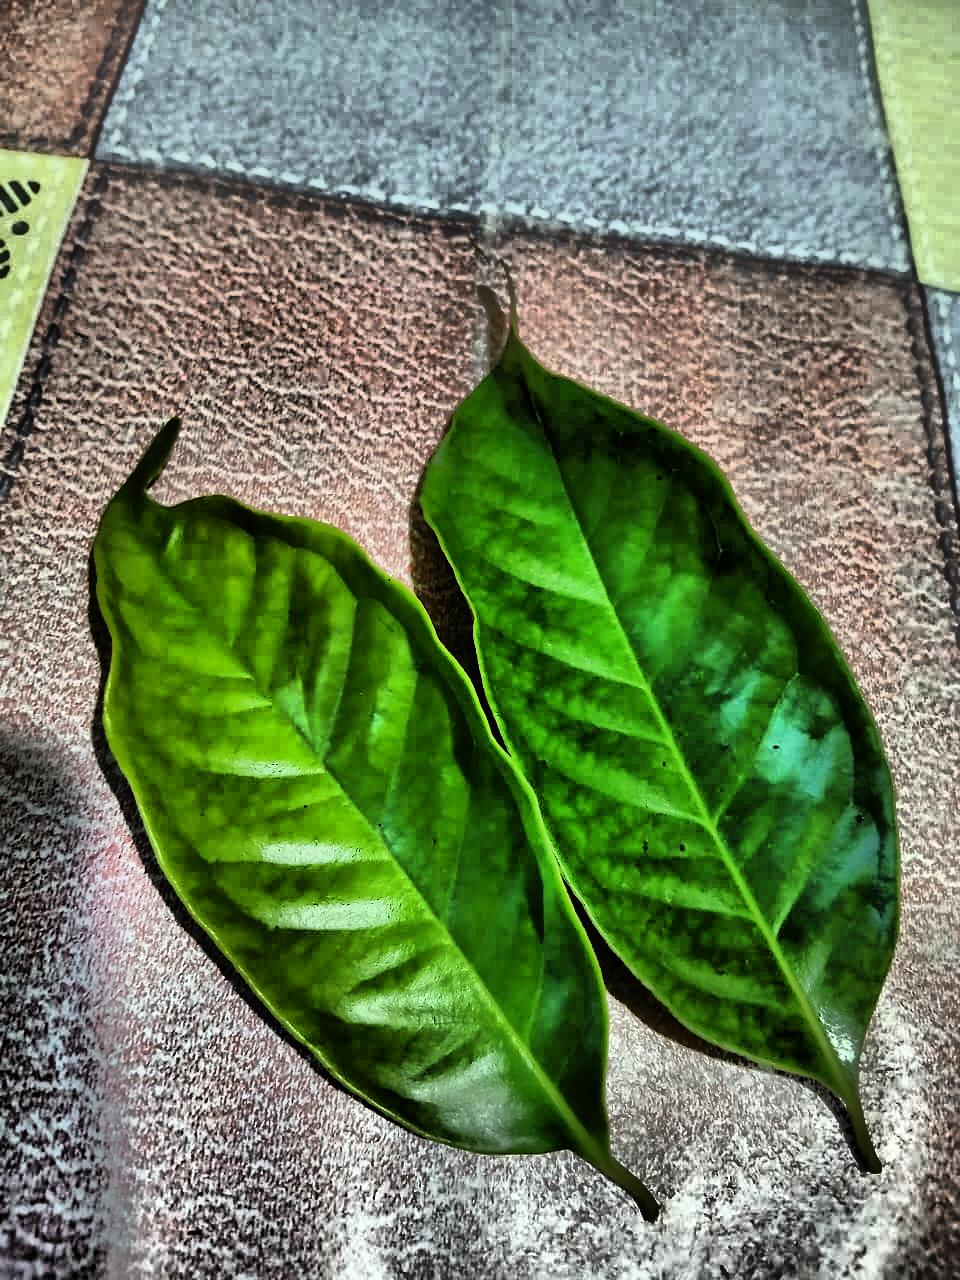daun salam: (94, 309, 898, 1207)
